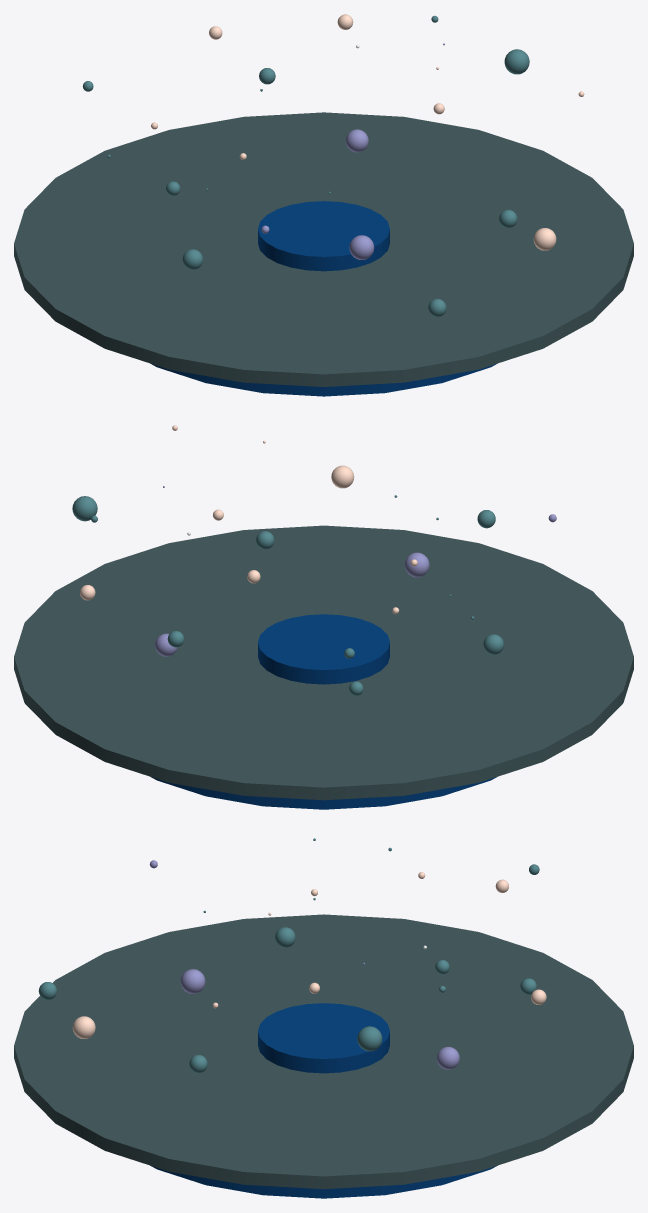
3 views of the same model, one above another, from view 1: azimuth 30°, elevation 25°; view 2: azimuth 150°, elevation 25°; view 3: azimuth 270°, elevation 25° (orthographic).
Parts seen in each view (by area): view 1: Mesh, stage, Mesh (2); view 2: Mesh, stage, Mesh (2); view 3: Mesh, stage, Mesh (2).
Part boxes in pixels (x1,y1,x2,y2): Mesh: (14,112,633,386); stage: (150,201,497,396); Mesh (2): (82,14,584,316); Mesh: (14,525,633,800); stage: (151,614,496,809); Mesh (2): (72,425,556,695); Mesh: (14,914,633,1189); stage: (150,1003,497,1198); Mesh (2): (38,838,546,1073).
Size of the model in its own units: 21.4 by 8.69 by 21.4.
